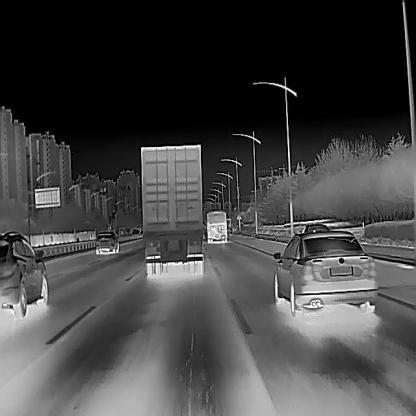car: (272, 228, 377, 317), (141, 143, 204, 276), (0, 230, 49, 318), (206, 210, 227, 242), (96, 231, 119, 252), (301, 222, 330, 234)
